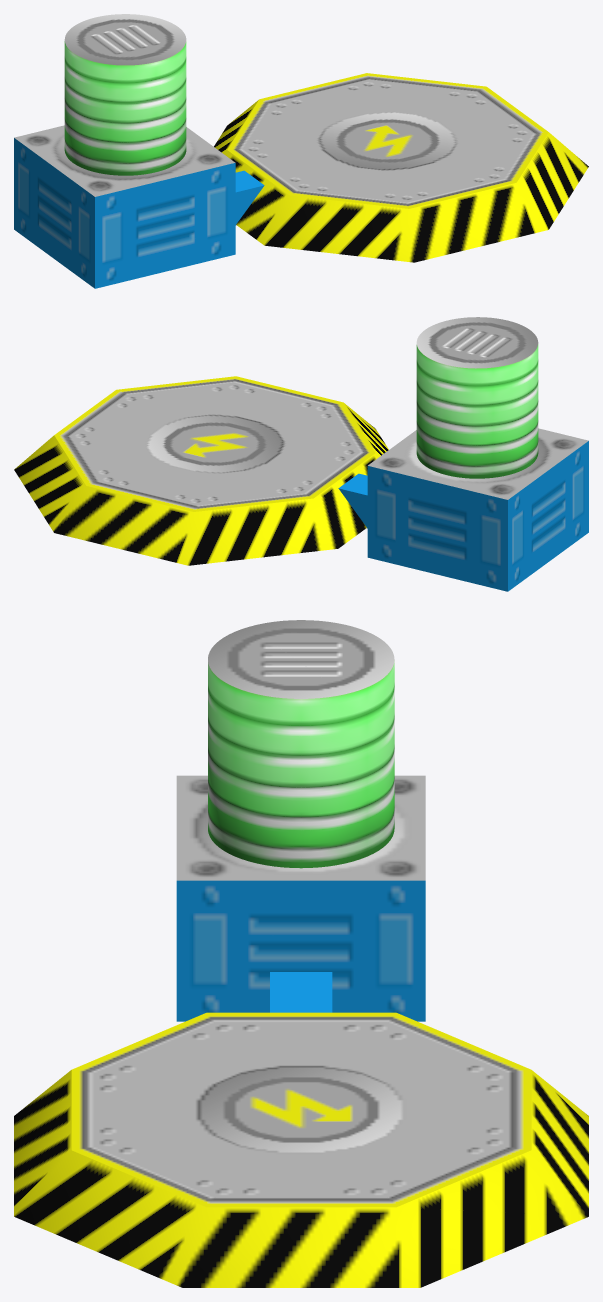
Rendered from station.obj.
3 views of the same model, one above another, from view 1: azimuth 30°, elevation 25°; view 2: azimuth 150°, elevation 25°; view 3: azimuth 270°, elevation 25° (orthographic). The views are drawn at different scales.
Parts seen in each view (by area): view 1: ColobotMesh_1.002_ColobotMesh_.002, ColobotMesh_1.001_ColobotMesh_.001, ColobotMesh_1.003_ColobotMesh_.003, ColobotMesh_1_ColobotMesh_; view 2: ColobotMesh_1.002_ColobotMesh_.002, ColobotMesh_1.001_ColobotMesh_.001, ColobotMesh_1.003_ColobotMesh_.003, ColobotMesh_1_ColobotMesh_; view 3: ColobotMesh_1.002_ColobotMesh_.002, ColobotMesh_1.003_ColobotMesh_.003, ColobotMesh_1.001_ColobotMesh_.001, ColobotMesh_1_ColobotMesh_.
Part boxes in pixels (x1,y1,x2,y2): ColobotMesh_1.002_ColobotMesh_.002: (214, 73, 588, 262); ColobotMesh_1.001_ColobotMesh_.001: (14, 125, 235, 288); ColobotMesh_1.003_ColobotMesh_.003: (64, 14, 186, 175); ColobotMesh_1_ColobotMesh_: (235, 170, 264, 225); ColobotMesh_1.002_ColobotMesh_.002: (14, 376, 388, 565); ColobotMesh_1.001_ColobotMesh_.001: (367, 428, 588, 591); ColobotMesh_1.003_ColobotMesh_.003: (416, 317, 538, 478); ColobotMesh_1_ColobotMesh_: (338, 473, 367, 528); ColobotMesh_1.002_ColobotMesh_.002: (14, 1012, 588, 1287); ColobotMesh_1.003_ColobotMesh_.003: (208, 620, 394, 868); ColobotMesh_1.001_ColobotMesh_.001: (176, 775, 425, 1021); ColobotMesh_1_ColobotMesh_: (270, 972, 332, 1012).
Bounding box in the file's own units: 28.24 × 11.03 × 18.48.
